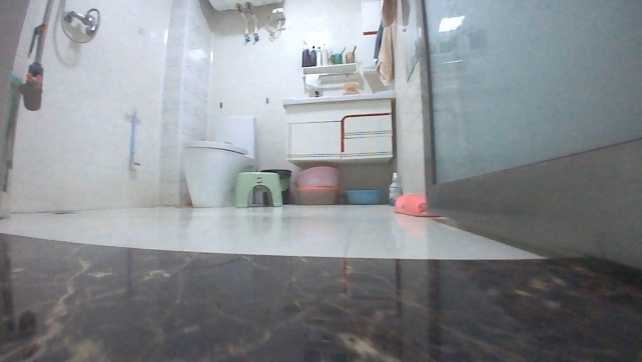plastic_stool: (234, 170, 286, 208)
toilet: (180, 113, 258, 209)
washstand: (279, 92, 397, 165)
